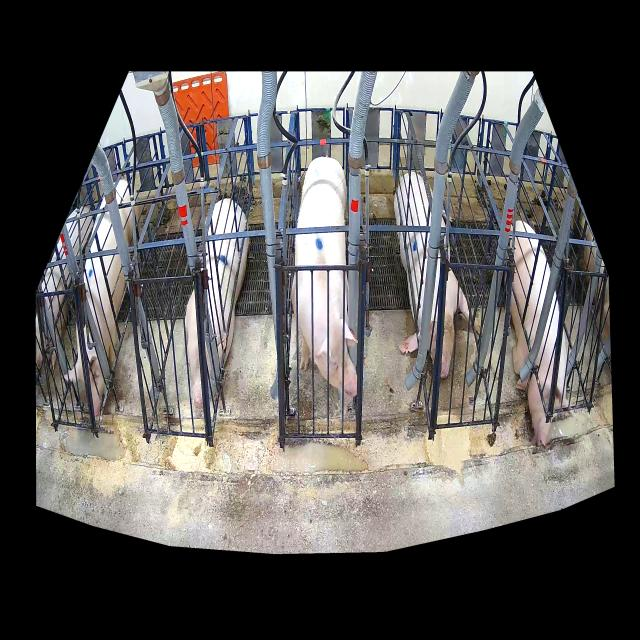pig: (69, 180, 141, 416), (291, 157, 357, 398), (394, 172, 469, 378), (185, 198, 249, 409), (511, 220, 569, 446)
